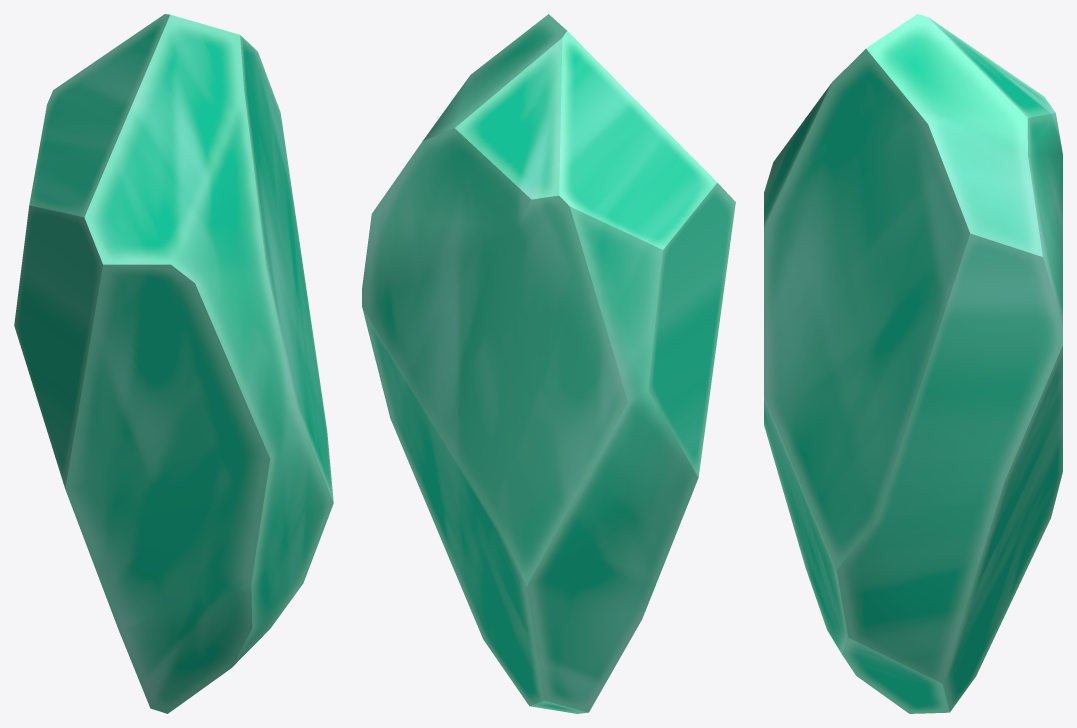
The model's file is CrystalPiece001.fbx.
The picture shows the model from 3 angles, left to right: view 1: azimuth 30°, elevation 25°; view 2: azimuth 150°, elevation 25°; view 3: azimuth 270°, elevation 25°; orthographic projection. The views are drawn at different scales.
Parts seen in each view (by area): view 1: crystalgreen1; view 2: crystalgreen1; view 3: crystalgreen1.
Boxes of the visible parts, x1,y1,x2,y2 form: crystalgreen1: (14, 14, 333, 713); crystalgreen1: (362, 14, 735, 713); crystalgreen1: (764, 14, 1062, 713).
Size of the model in its own units: 4.47 by 11.6 by 4.47.
1 material, 1 textured.
